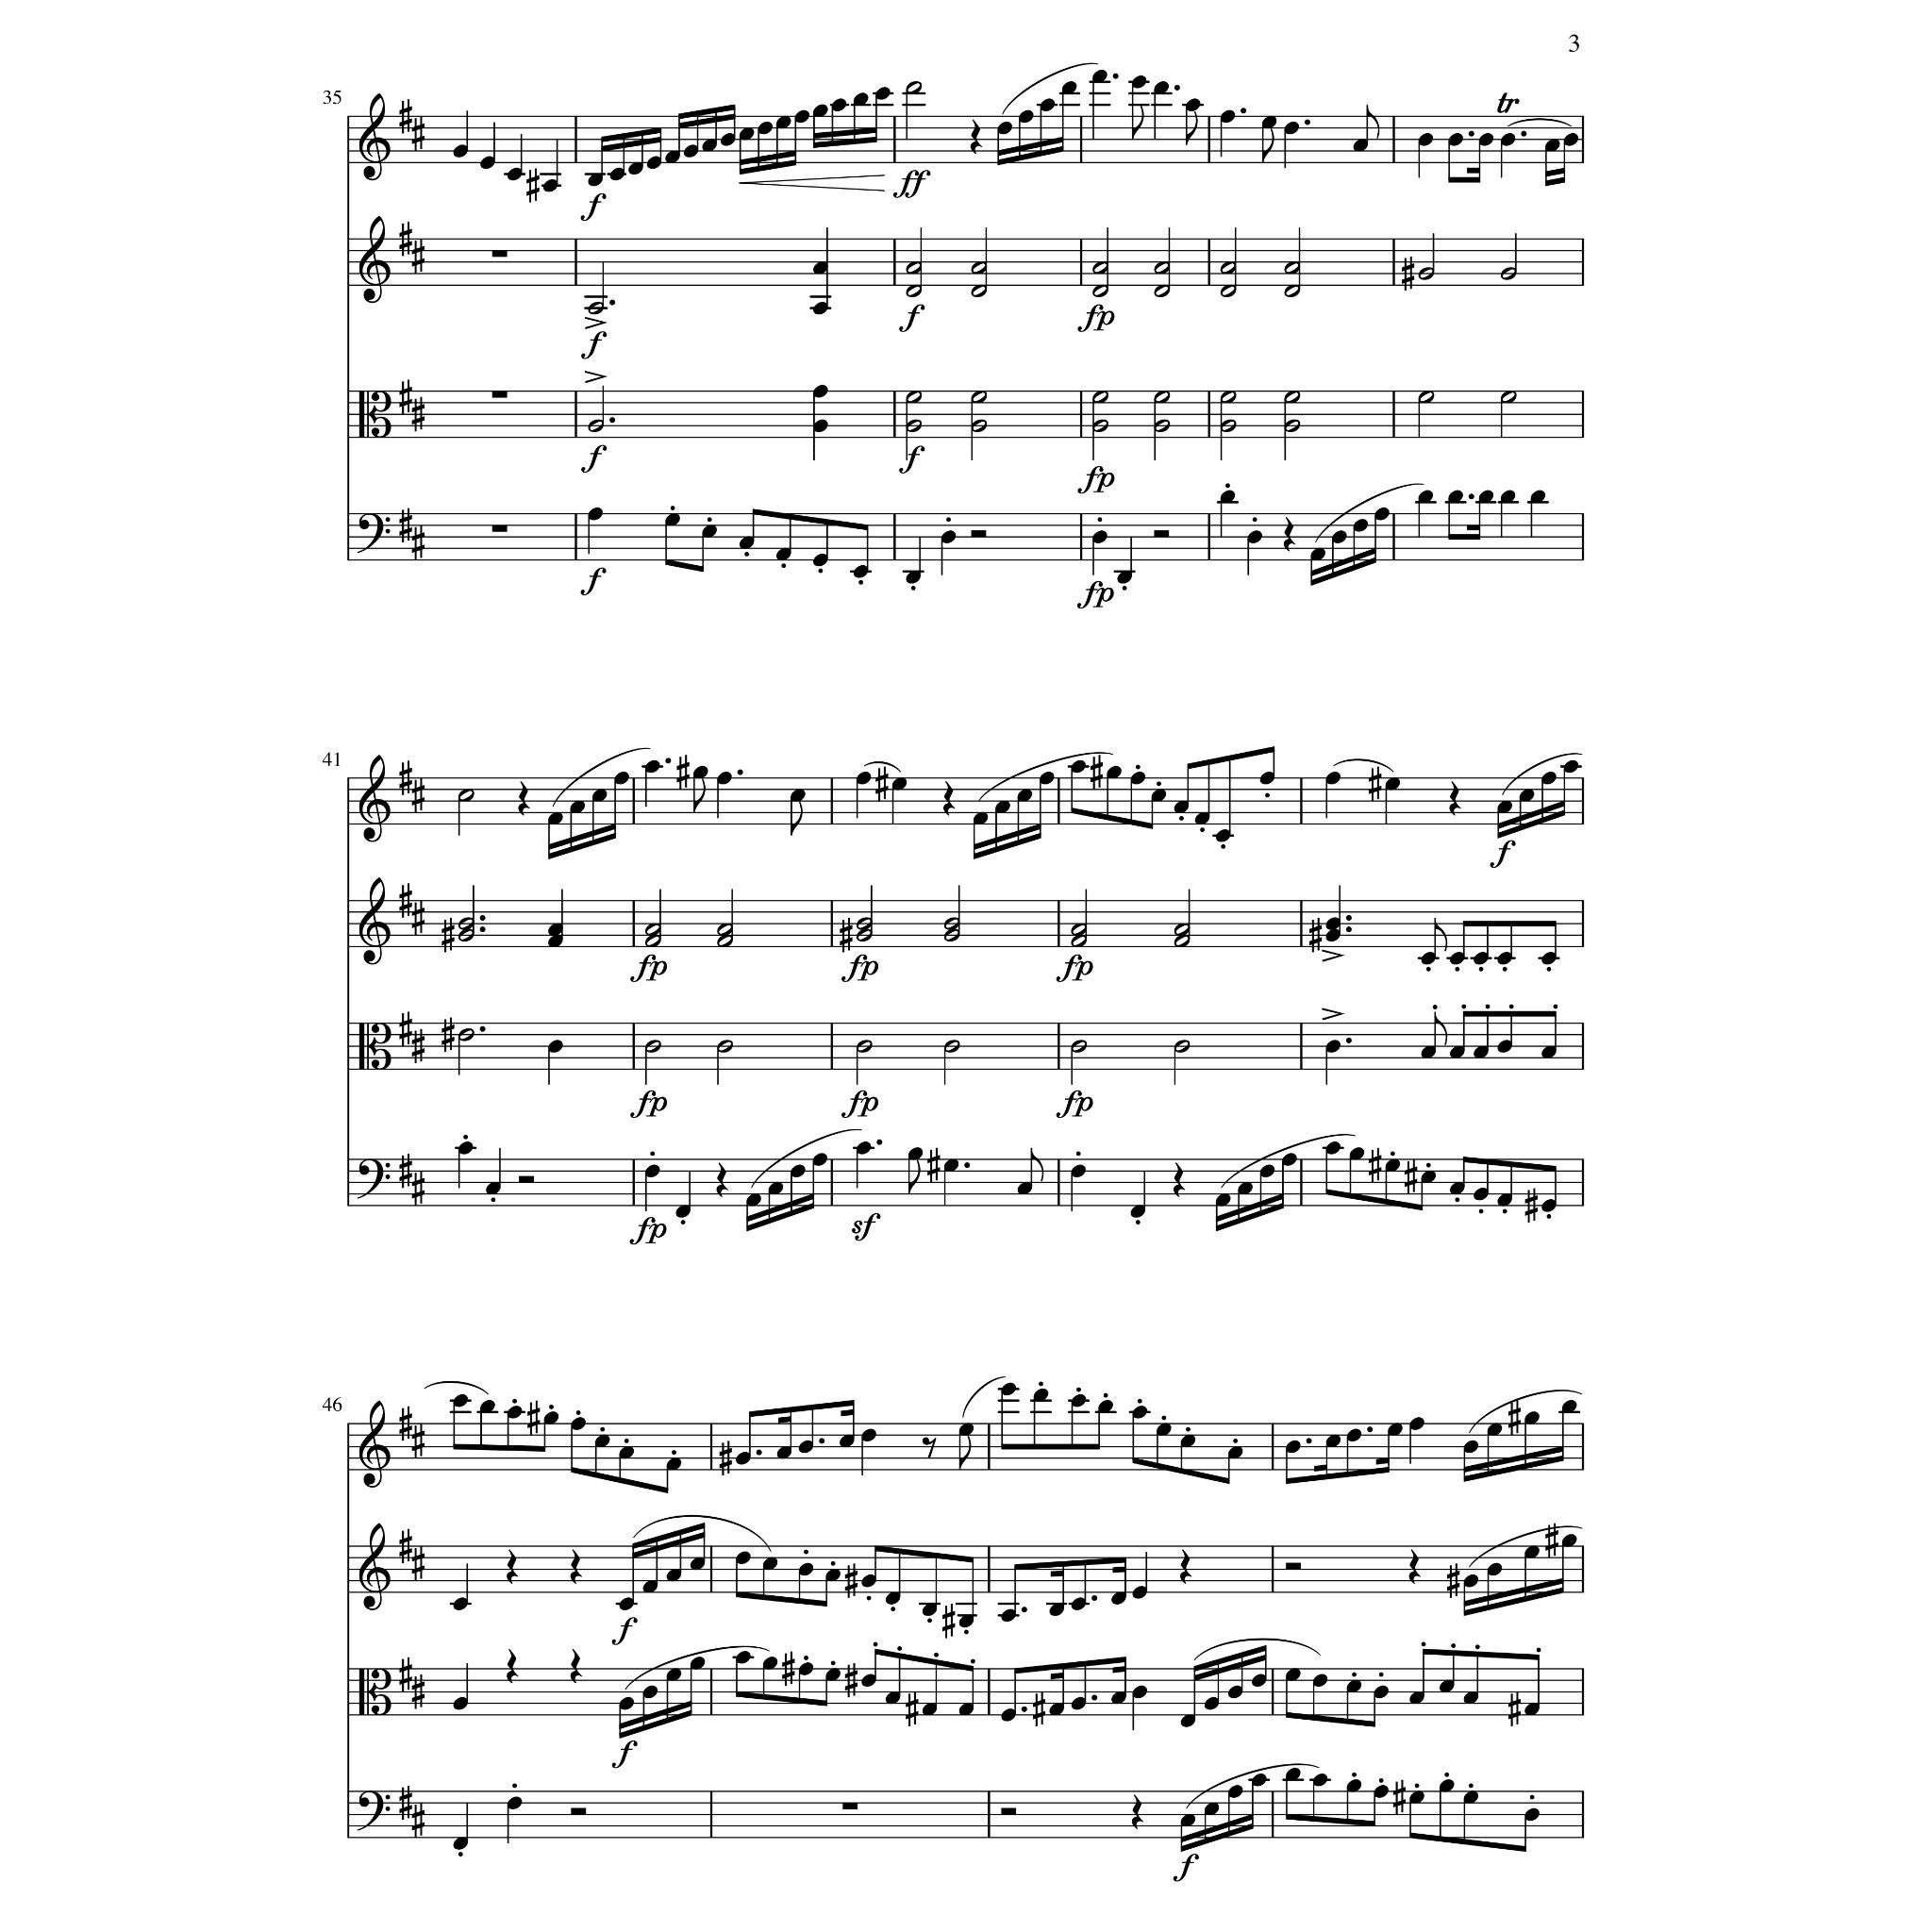fClef: (357, 513, 391, 554), (357, 1159, 391, 1200), (357, 1790, 391, 1831)
flag8thDown: (1132, 104, 1145, 140), (1261, 129, 1274, 163), (1185, 111, 1198, 145), (694, 778, 706, 812), (908, 1161, 920, 1194), (959, 1437, 971, 1470), (791, 801, 801, 835)
flag8thUp: (1366, 106, 1380, 140), (1435, 1012, 1447, 1046), (1435, 918, 1447, 952), (1031, 1148, 1044, 1182)
gClef: (359, 94, 391, 182), (359, 216, 391, 304), (359, 754, 391, 842), (359, 876, 391, 964), (359, 1399, 391, 1488), (359, 1523, 391, 1612)
noteheadBlack: (701, 524, 718, 538), (1384, 777, 1401, 791), (971, 812, 989, 826), (1284, 1440, 1302, 1454), (1284, 1767, 1302, 1782), (1155, 1422, 1173, 1437), (957, 1615, 975, 1629), (957, 1422, 975, 1437), (957, 1702, 975, 1716), (1219, 110, 1235, 124), (1219, 490, 1235, 504), (1283, 122, 1299, 136), (1247, 531, 1263, 545), (1092, 531, 1108, 545), (1116, 570, 1132, 584), (1092, 69, 1108, 83), (1154, 81, 1169, 96), (1530, 490, 1546, 504), (1562, 133, 1578, 147), (1500, 133, 1516, 147), (1500, 490, 1516, 504), (1417, 490, 1433, 504), (1417, 133, 1433, 147), (1330, 531, 1346, 545), (1447, 133, 1463, 147), (1447, 490, 1463, 504), (1477, 133, 1493, 147), (1477, 490, 1493, 504), (665, 150, 681, 165), (665, 513, 681, 527), (683, 145, 699, 159), (738, 536, 754, 550), (757, 122, 773, 136), (720, 133, 736, 147), (453, 145, 469, 159), (541, 179, 557, 193), (587, 173, 603, 188), (939, 531, 955, 545), (906, 570, 922, 584), (996, 122, 1012, 136), (1019, 110, 1035, 124), (1062, 81, 1077, 96), (812, 419, 828, 433), (794, 110, 810, 124), (812, 104, 828, 119), (812, 301, 828, 315), (812, 260, 828, 274), (853, 564, 869, 579), (853, 92, 869, 106), (1325, 771, 1341, 786), (1325, 929, 1341, 943), (1325, 1040, 1341, 1054), (1325, 1141, 1341, 1155), (1237, 1182, 1253, 1196), (1260, 771, 1276, 786), (1348, 1146, 1364, 1161), (1131, 771, 1146, 786), (1131, 1205, 1146, 1219), (1150, 787, 1166, 801), (1194, 812, 1210, 826), (1541, 771, 1557, 786), (1541, 1046, 1557, 1060), (1518, 787, 1534, 801), (1449, 1046, 1465, 1060), (1449, 1182, 1465, 1196), (1421, 1046, 1437, 1060), (1497, 1040, 1513, 1054), (1474, 1046, 1490, 1060), (1474, 1187, 1490, 1201), (593, 787, 609, 801), (614, 771, 630, 786), (717, 771, 732, 786), (676, 1205, 692, 1219), (456, 1141, 472, 1155), (547, 812, 563, 826), (547, 934, 563, 948), (547, 1040, 563, 1054), (485, 1182, 501, 1196), (908, 1146, 924, 1161), (892, 777, 908, 791), (1017, 787, 1033, 801), (1017, 1182, 1033, 1196), (1039, 771, 1054, 786), (855, 771, 870, 786), (855, 1141, 870, 1155), (768, 1182, 784, 1196), (789, 787, 805, 801), (1251, 1674, 1267, 1688), (1251, 1773, 1267, 1787), (1203, 1697, 1219, 1711), (1203, 1801, 1219, 1815), (1226, 1445, 1242, 1460), (1226, 1686, 1242, 1700), (1311, 1674, 1327, 1688), (1311, 1773, 1327, 1787), (1097, 1399, 1113, 1414), (1049, 1702, 1065, 1716), (1070, 1394, 1086, 1408), (1070, 1697, 1086, 1711), (1049, 1603, 1065, 1617), (1180, 1435, 1196, 1449), (1180, 1813, 1196, 1828), (1132, 1405, 1148, 1419), (1132, 1585, 1148, 1599), (1132, 1686, 1148, 1700), (1560, 1399, 1576, 1414), (1486, 1422, 1502, 1437), (1523, 1545, 1539, 1559), (1523, 1702, 1539, 1716), (1523, 1808, 1539, 1822), (1387, 1422, 1403, 1437), (1373, 1686, 1389, 1700), (1346, 1679, 1362, 1693), (1463, 1440, 1479, 1454), (1463, 1575, 1479, 1589), (1325, 1435, 1341, 1449), (1438, 1679, 1454, 1693), (642, 1580, 658, 1594), (642, 1686, 658, 1700), (594, 1435, 610, 1449), (619, 1445, 635, 1460), (619, 1697, 635, 1711), (690, 1656, 706, 1670), (734, 1552, 750, 1566), (734, 1651, 750, 1665), (453, 1394, 469, 1408), (453, 1697, 469, 1711), (453, 1836, 469, 1851), (479, 1399, 495, 1414), (506, 1405, 522, 1419), (922, 1603, 938, 1617), (922, 1702, 938, 1716), (763, 1656, 778, 1670), (798, 1440, 814, 1454), (862, 1575, 878, 1589), (862, 1674, 878, 1688), (839, 1435, 855, 1449), (1184, 99, 1201, 111), (701, 140, 718, 152), (830, 99, 847, 111), (1384, 1159, 1401, 1171), (1214, 830, 1231, 842), (1214, 1194, 1231, 1207), (745, 1194, 763, 1207), (1284, 1668, 1302, 1681), (1000, 1384, 1017, 1396), (1000, 1610, 1017, 1622), (1000, 1709, 1017, 1721), (777, 1445, 791, 1460), (1261, 117, 1277, 129), (1131, 76, 1146, 88), (1545, 140, 1560, 152), (1375, 508, 1391, 520), (1309, 548, 1325, 561), (1352, 140, 1368, 152), (1352, 520, 1368, 533), (646, 157, 662, 170), (609, 168, 625, 180), (628, 163, 644, 175), (738, 127, 754, 140), (775, 117, 791, 129), (775, 548, 791, 561), (479, 157, 495, 170), (506, 168, 522, 180), (587, 508, 603, 520), (1039, 99, 1054, 111), (812, 386, 828, 398), (812, 554, 828, 566), (876, 88, 892, 101), (1325, 918, 1341, 931), (1281, 1154, 1297, 1166), (1260, 1166, 1276, 1178), (1106, 766, 1122, 778), (1173, 801, 1189, 814), (1541, 952, 1557, 964), (1541, 1200, 1557, 1212), (1562, 761, 1578, 773), (1449, 952, 1465, 964), (1421, 952, 1437, 964), (1421, 1171, 1437, 1184), (1497, 801, 1513, 814), (1497, 952, 1513, 964), (1497, 1194, 1513, 1207), (1474, 952, 1490, 964), (644, 761, 660, 773), (644, 1166, 660, 1178), (694, 766, 709, 778), (547, 924, 563, 936), (570, 801, 586, 814), (943, 1159, 959, 1171), (1070, 761, 1086, 773), (1070, 1166, 1086, 1178), (994, 801, 1010, 814), (812, 1154, 828, 1166), (789, 1166, 805, 1178), (1226, 1785, 1242, 1798), (1111, 1592, 1127, 1605), (1111, 1691, 1127, 1704), (1070, 1598, 1086, 1610), (1180, 1714, 1196, 1727), (1560, 1534, 1576, 1546), (1486, 1564, 1502, 1576), (1523, 1412, 1539, 1424), (1373, 1785, 1389, 1798), (1408, 1417, 1424, 1430), (1408, 1691, 1424, 1704), (1408, 1790, 1424, 1803), (1346, 1430, 1362, 1442), (1346, 1780, 1362, 1792), (1463, 1691, 1479, 1704), (1463, 1790, 1479, 1803), (1438, 1780, 1454, 1792), (665, 1458, 681, 1470), (665, 1569, 681, 1582), (665, 1668, 681, 1681), (619, 1598, 635, 1610), (690, 1557, 706, 1569), (734, 1453, 750, 1465), (453, 1598, 469, 1610), (543, 1412, 559, 1424), (570, 1417, 586, 1430), (506, 1798, 522, 1810), (885, 1592, 901, 1605), (885, 1691, 901, 1704), (1033, 1389, 1049, 1401), (824, 1569, 840, 1582), (824, 1668, 840, 1681), (763, 1557, 778, 1569), (798, 1564, 814, 1576), (798, 1663, 814, 1675), (862, 1430, 878, 1442)
noteheadHalf: (1219, 262, 1237, 276), (1219, 419, 1237, 433), (1092, 419, 1109, 433), (1154, 262, 1171, 276), (1092, 262, 1109, 276), (1154, 419, 1171, 433), (1417, 267, 1435, 281), (904, 81, 922, 96), (904, 262, 922, 276), (904, 419, 922, 433), (1173, 934, 1191, 948), (1173, 1040, 1191, 1054), (644, 934, 662, 948), (644, 1040, 662, 1054), (943, 929, 961, 943), (943, 1040, 961, 1054), (1070, 934, 1088, 948), (1070, 1040, 1088, 1054), (1284, 262, 1300, 276), (1284, 419, 1300, 433), (1500, 267, 1516, 281), (587, 301, 603, 315), (587, 419, 603, 433), (971, 262, 987, 276), (971, 419, 987, 433), (717, 934, 732, 948), (717, 1040, 732, 1054), (458, 787, 474, 801), (458, 929, 474, 943), (458, 1028, 474, 1042), (856, 929, 872, 943), (856, 1040, 872, 1054), (1219, 285, 1237, 297), (1219, 391, 1237, 403), (1092, 391, 1109, 403), (1154, 285, 1171, 297), (1092, 285, 1109, 297), (1154, 391, 1171, 403), (1417, 391, 1435, 403), (904, 285, 922, 297), (904, 391, 922, 403), (1173, 924, 1191, 936), (644, 924, 662, 936), (943, 918, 961, 931), (1070, 924, 1088, 936), (1284, 285, 1300, 297), (1284, 391, 1300, 403), (1500, 391, 1516, 403), (971, 285, 987, 297), (971, 391, 987, 403), (717, 924, 732, 936), (458, 918, 474, 931), (856, 918, 872, 931)
rest8th: (922, 1437, 936, 1460)
restHalf: (518, 1175, 534, 1184), (1284, 1562, 1302, 1569), (1000, 1808, 1017, 1815), (1154, 531, 1169, 538), (970, 531, 985, 538), (570, 1808, 586, 1815)
restQuarter: (1283, 517, 1295, 552), (970, 120, 982, 156), (1173, 1162, 1185, 1198), (717, 1162, 729, 1198), (1180, 1550, 1192, 1585), (1132, 1794, 1145, 1829), (1408, 1550, 1421, 1585), (570, 1649, 582, 1684), (570, 1550, 582, 1585), (506, 1550, 518, 1585), (506, 1649, 518, 1684), (1449, 782, 1461, 816), (517, 782, 529, 816), (943, 782, 955, 816)
restWhole: (492, 251, 508, 258), (492, 391, 508, 398), (492, 525, 508, 533), (842, 1803, 858, 1810)
